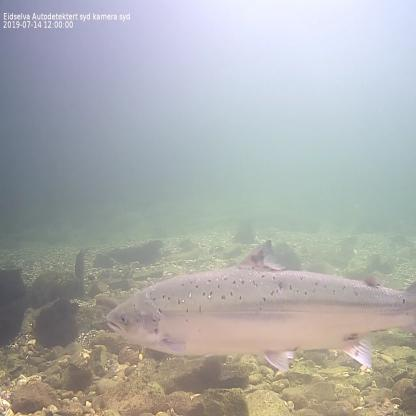salmon: (101, 235, 416, 376)
